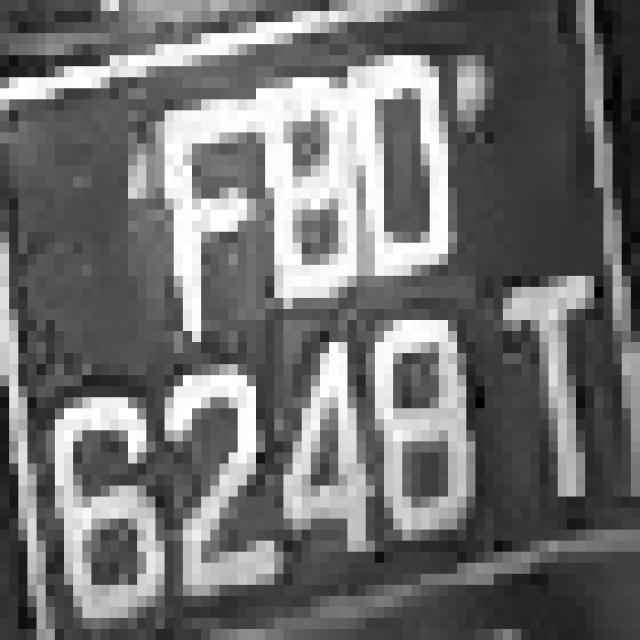2: (156, 331, 292, 596)
4: (247, 309, 366, 607)
6: (36, 342, 156, 618)
8: (357, 320, 521, 618)
B: (228, 66, 356, 298)
F: (128, 66, 247, 320)
O: (320, 77, 466, 309)
T: (457, 243, 613, 563)
